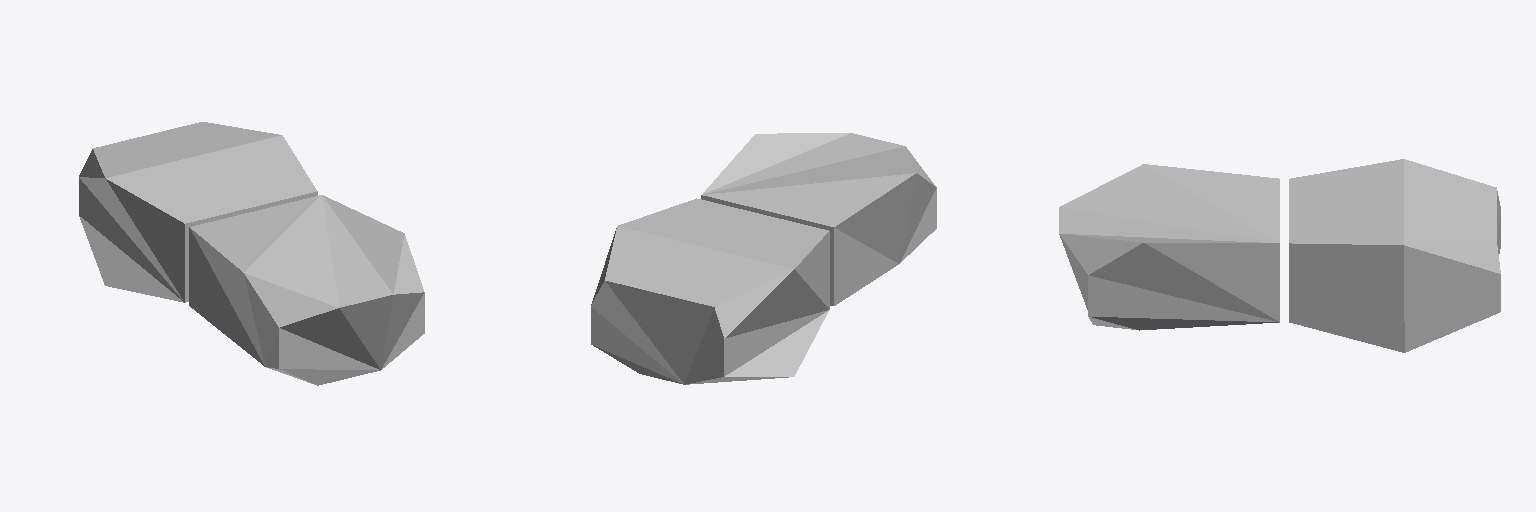
File: SpiderBody.obj
3 renders of one model, left to right at view 1: azimuth 30°, elevation 25°; view 2: azimuth 150°, elevation 25°; view 3: azimuth 270°, elevation 25°, orthographic.
Visible parts, largest first — view 1: Cube; view 2: Cube; view 3: Cube.
Boxes of the visible parts, <box> form: Cube: <box>79,122,424,385</box>; Cube: <box>591,133,936,384</box>; Cube: <box>1059,159,1500,352</box>.
Bounding box in the file's own units: 1.93 × 1.12 × 4.17.